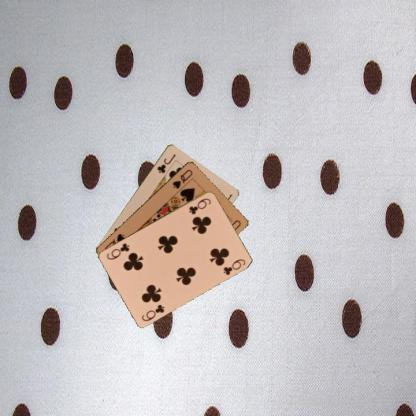6c: (138, 302, 166, 322), (186, 196, 212, 216)
Jc: (154, 152, 177, 174)
Qs: (170, 166, 193, 190)
